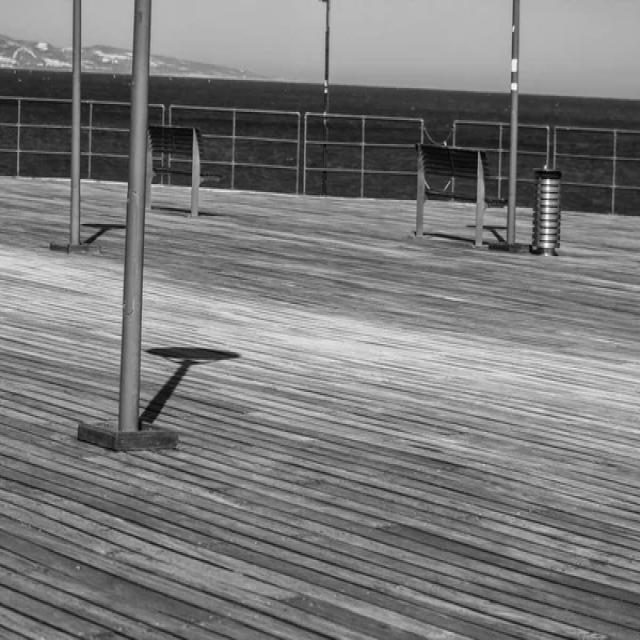Pole: (118, 0, 150, 432), (66, 0, 88, 245), (503, 0, 523, 240)
